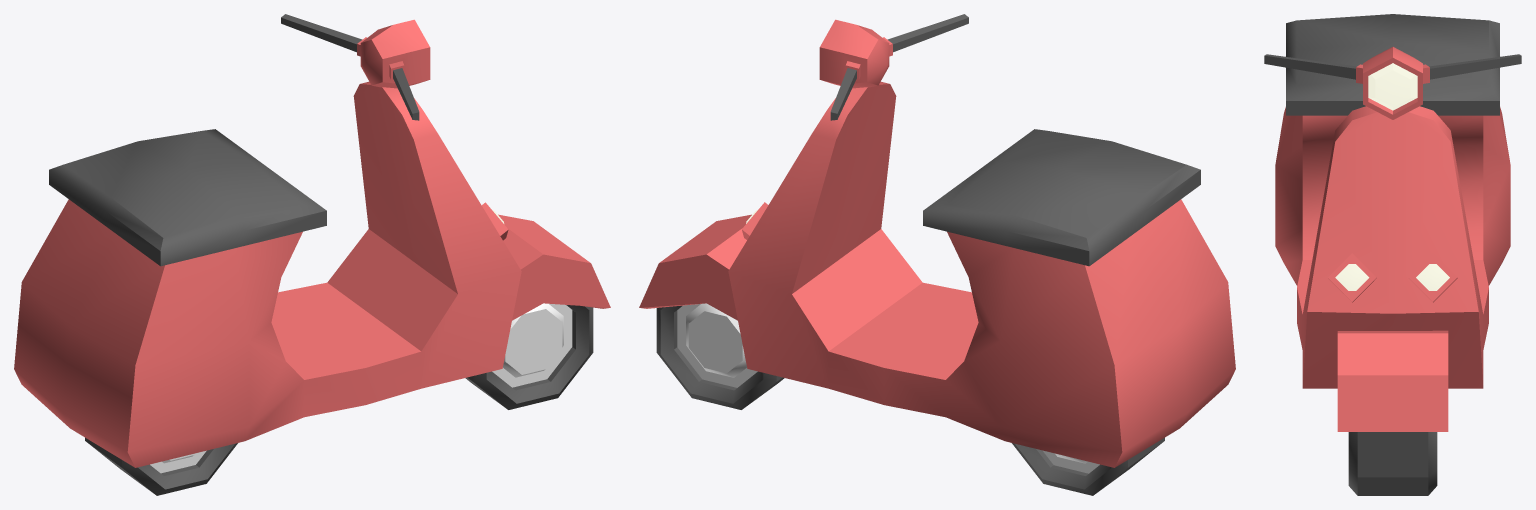
3 views of the same model, side by side, from view 1: azimuth 30°, elevation 25°; view 2: azimuth 150°, elevation 25°; view 3: azimuth 270°, elevation 25° (orthographic). The views are drawn at different scales.
Parts seen in each view (by area): view 1: Frame, Front_Wheel, Front_Wheel_Cover, Capsule, Back_Wheel; view 2: Frame, Front_Wheel, Front_Wheel_Cover, Capsule, Back_Wheel; view 3: Frame, Front_Wheel_Cover, Front_Wheel, Capsule, Capsule_1, Tube, Tube_2, Polygon_2, Polygon.
Part boxes in pixels (<box>): Frame: <box>14,81,521,467</box>; Front_Wheel: <box>465,303,593,409</box>; Front_Wheel_Cover: <box>498,214,610,320</box>; Capsule: <box>281,14,430,120</box>; Back_Wheel: <box>85,437,237,495</box>; Frame: <box>728,81,1235,467</box>; Front_Wheel: <box>656,303,784,409</box>; Front_Wheel_Cover: <box>639,214,751,320</box>; Capsule: <box>819,14,968,120</box>; Back_Wheel: <box>1012,437,1164,495</box>; Frame: <box>1275,14,1510,388</box>; Front_Wheel_Cover: <box>1337,330,1448,431</box>; Front_Wheel: <box>1348,432,1437,495</box>; Capsule: <box>1264,47,1521,119</box>; Capsule_1: <box>1368,63,1417,110</box>; Tube: <box>1408,253,1457,302</box>; Tube_2: <box>1328,253,1376,302</box>; Polygon_2: <box>1335,264,1369,290</box>; Polygon: <box>1416,264,1449,290</box>.
Size of the model in its own units: 15.21 by 11.06 by 6.79.
